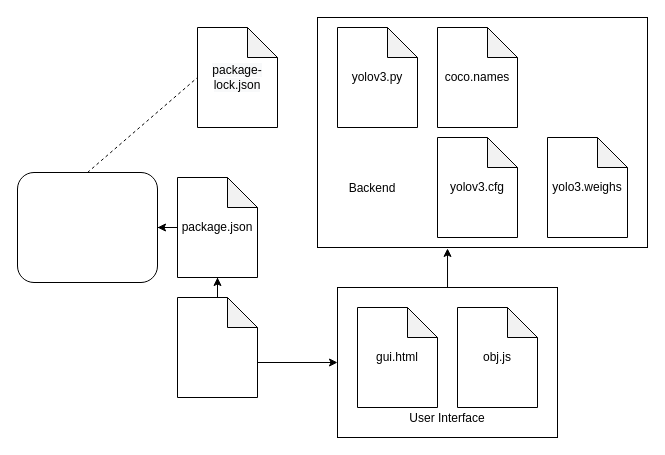
Some shapes in this 665 by 455 pixel diagram are drawn without their labels. Each missing label, with the centre of its shape:
Electron API & Node JS: the point at 87,227
man.js: the point at 217,347
